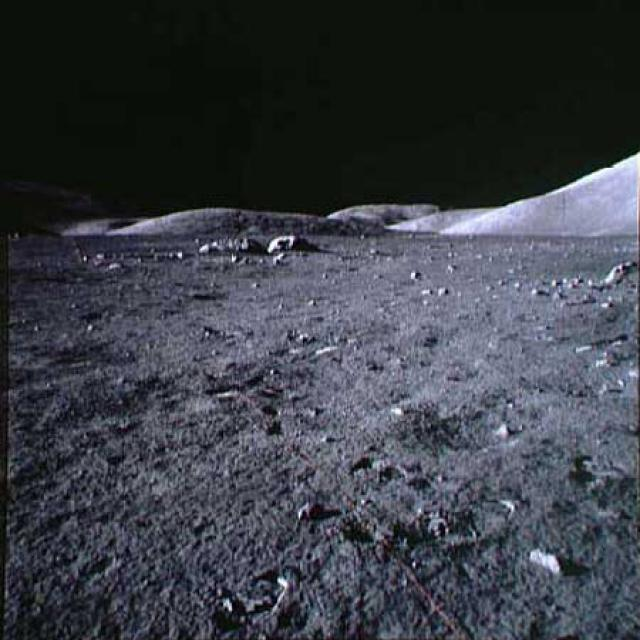crater: (422, 403, 544, 454)
rock: (191, 231, 264, 254), (526, 541, 562, 579), (268, 230, 313, 252), (158, 247, 188, 261)
